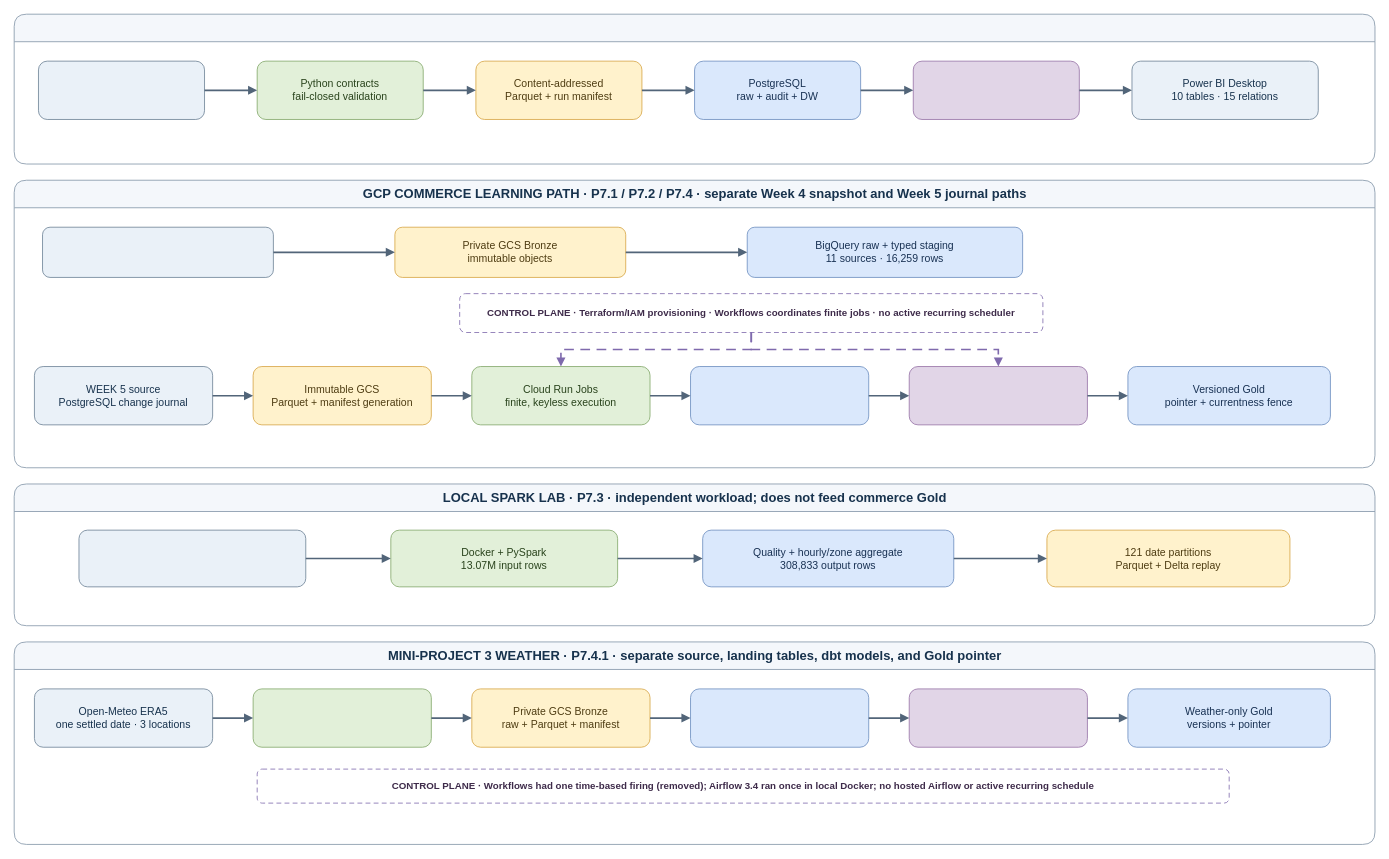
Some shapes in this 1389 by 859 pixel diagram are drawn without their labels. The box of each missing label's shape, as (x1, y1, x2, y2) in pixels:
BigQuery Silver sequence-aware merge + checkpoint: (690, 366, 869, 425)
BigQuery weather landing table: (690, 688, 869, 747)
dbt candidate tests + reconciliation: (908, 366, 1087, 425)
Kimball marts 10 SQL analyses: (912, 60, 1079, 119)
LOCAL COMMERCE · P6.2 accepted baseline: (13, 13, 1375, 164)
Official NYC TLC 2024 Yellow Taxi: (78, 529, 306, 587)
Synthetic CSV 3,000 orders: (38, 60, 205, 119)
Weather dbt Silver + tests: (908, 688, 1087, 747)
Weather ingest Cloud Run Job: (252, 688, 431, 747)
WEEK 4 · 11 synthetic source extracts: (42, 226, 273, 277)
